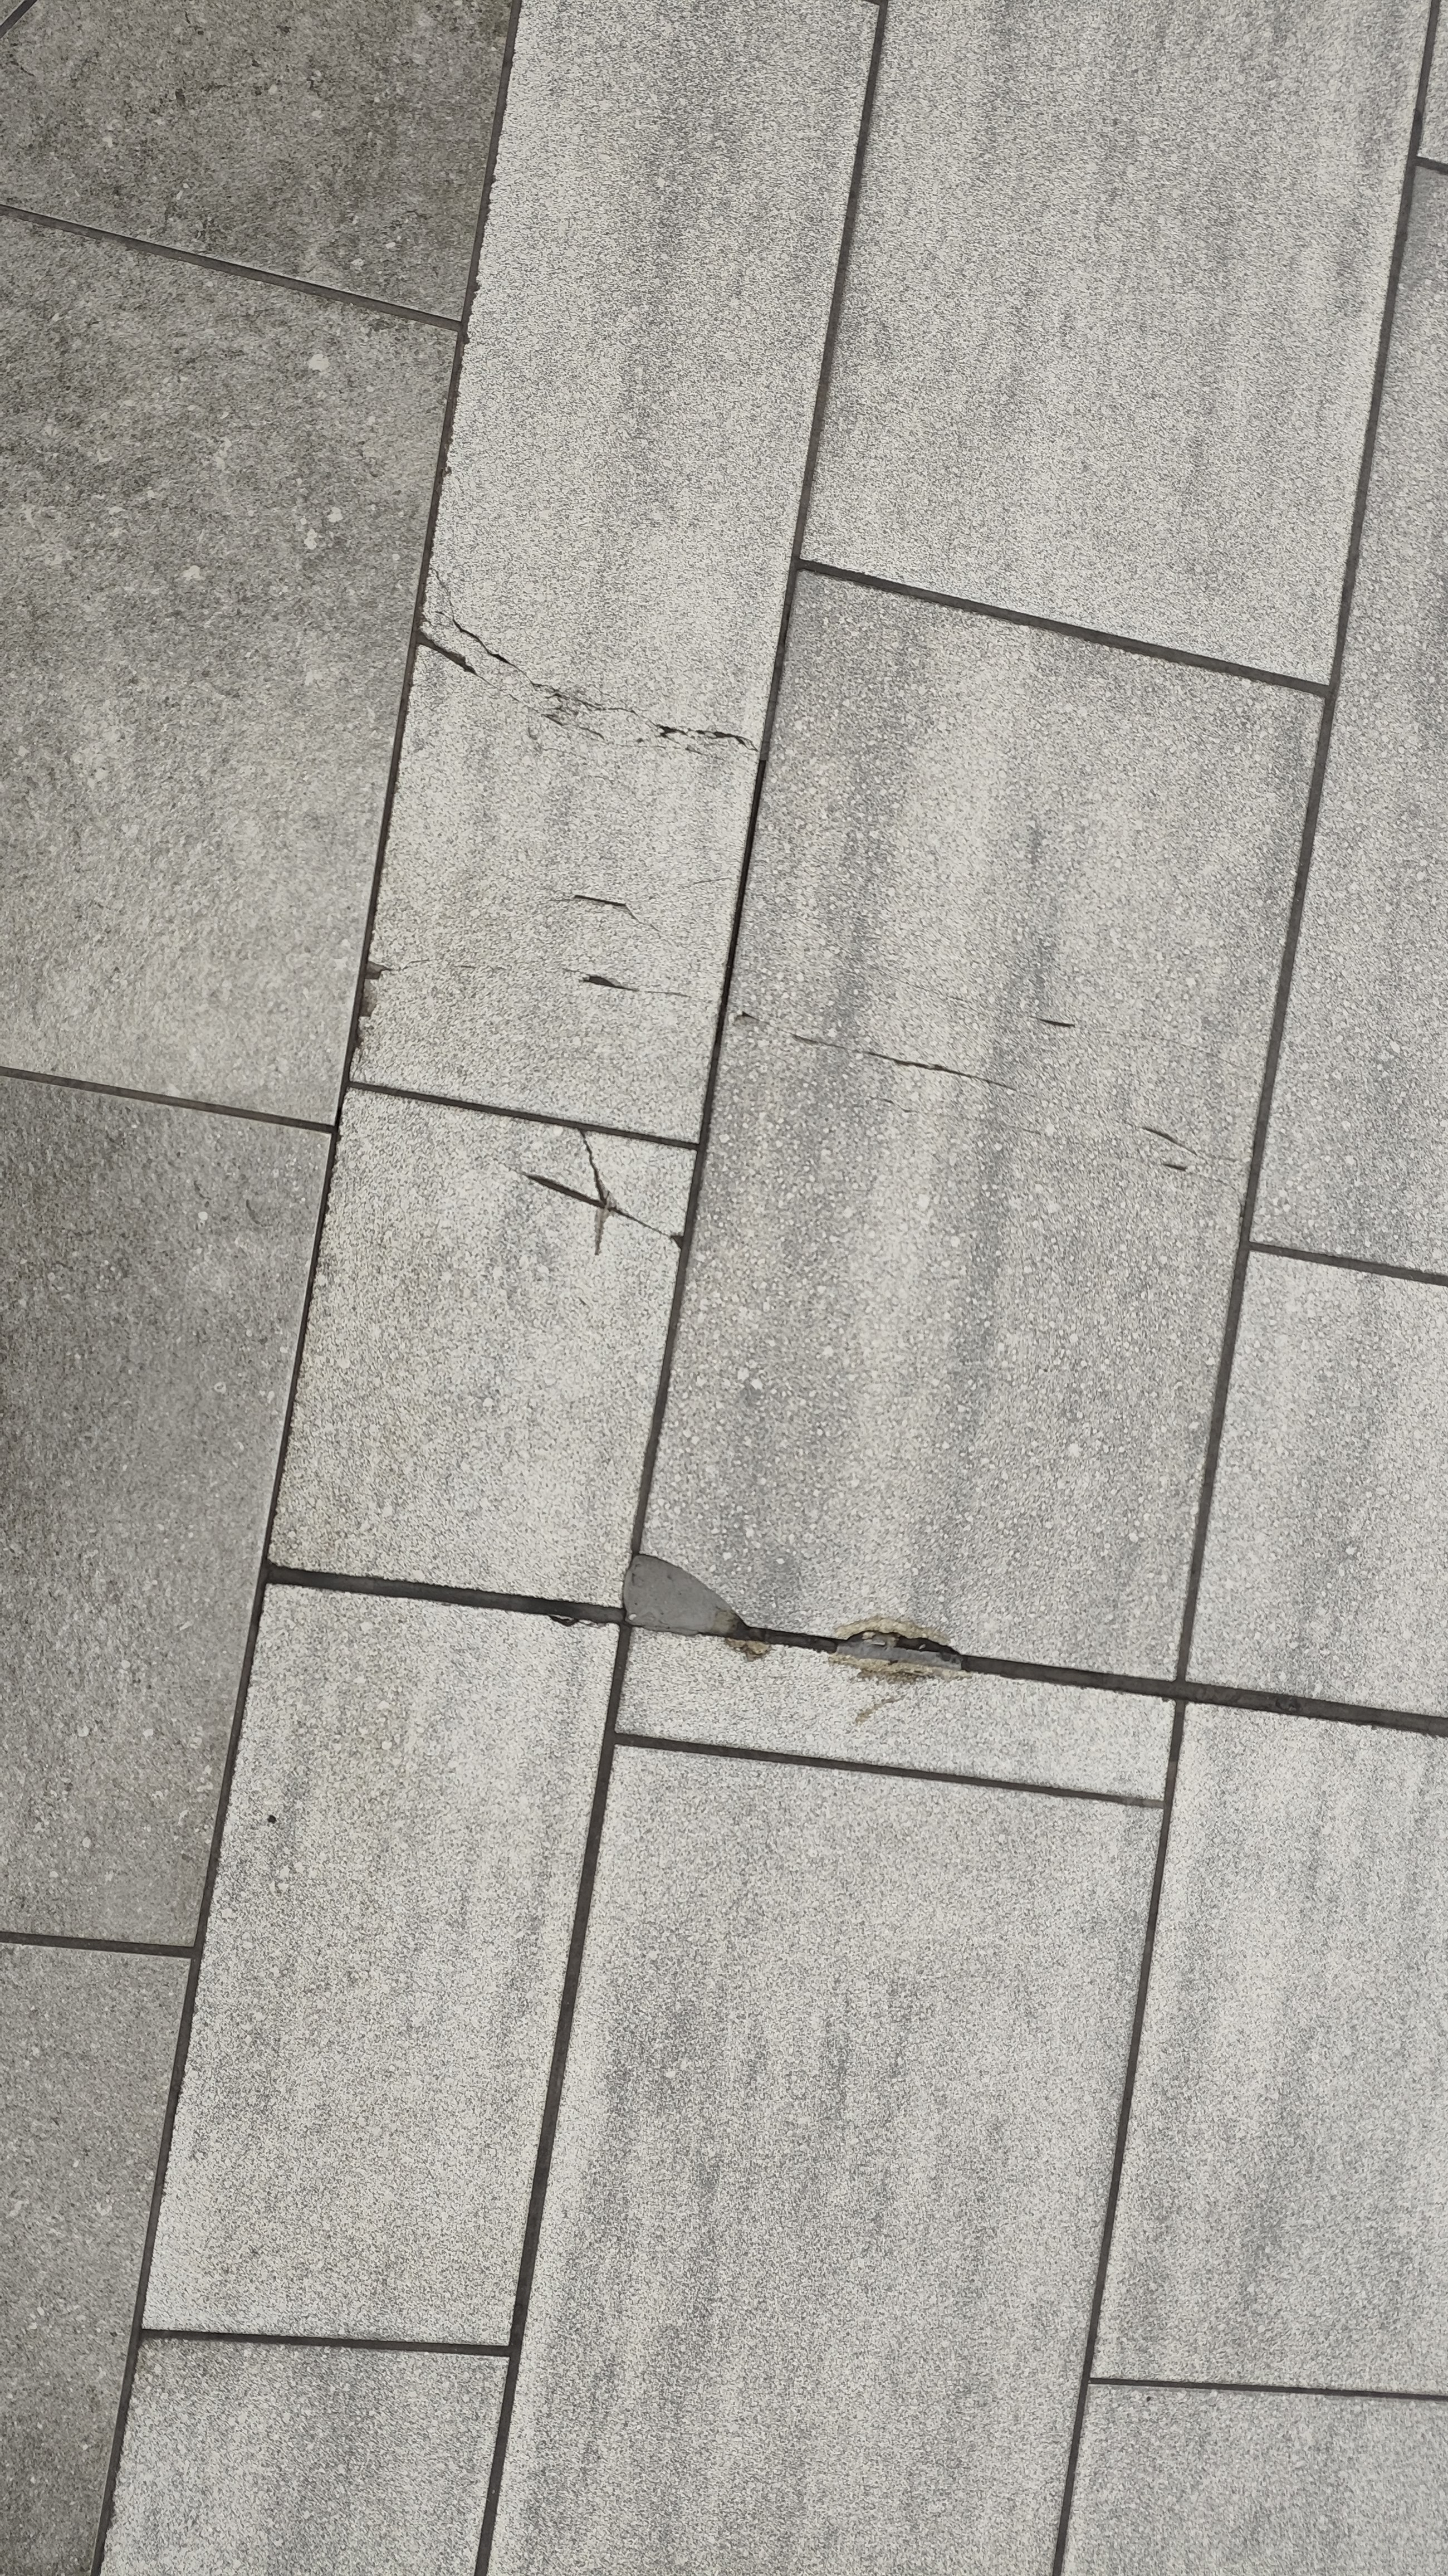Defect: (746, 961, 1254, 1207), (401, 533, 771, 780), (599, 1527, 1010, 1729), (341, 867, 735, 1072), (493, 1120, 691, 1274)
